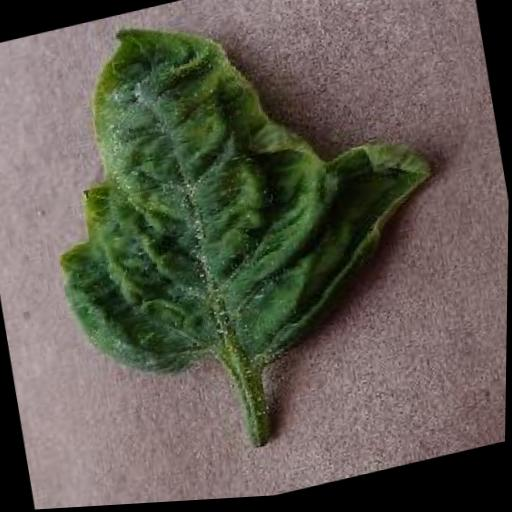Yellow Leaf Curl Virus: (15, 0, 464, 419)
